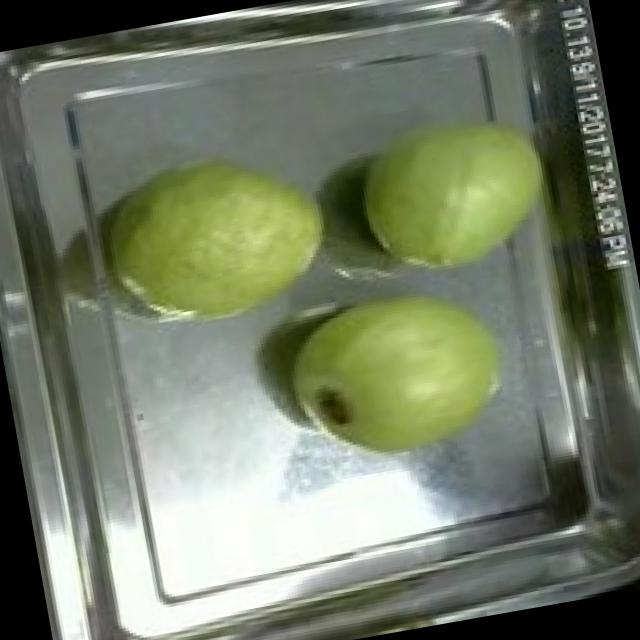Fruit: (265, 263, 527, 483), (90, 136, 344, 352), (338, 93, 566, 295)
